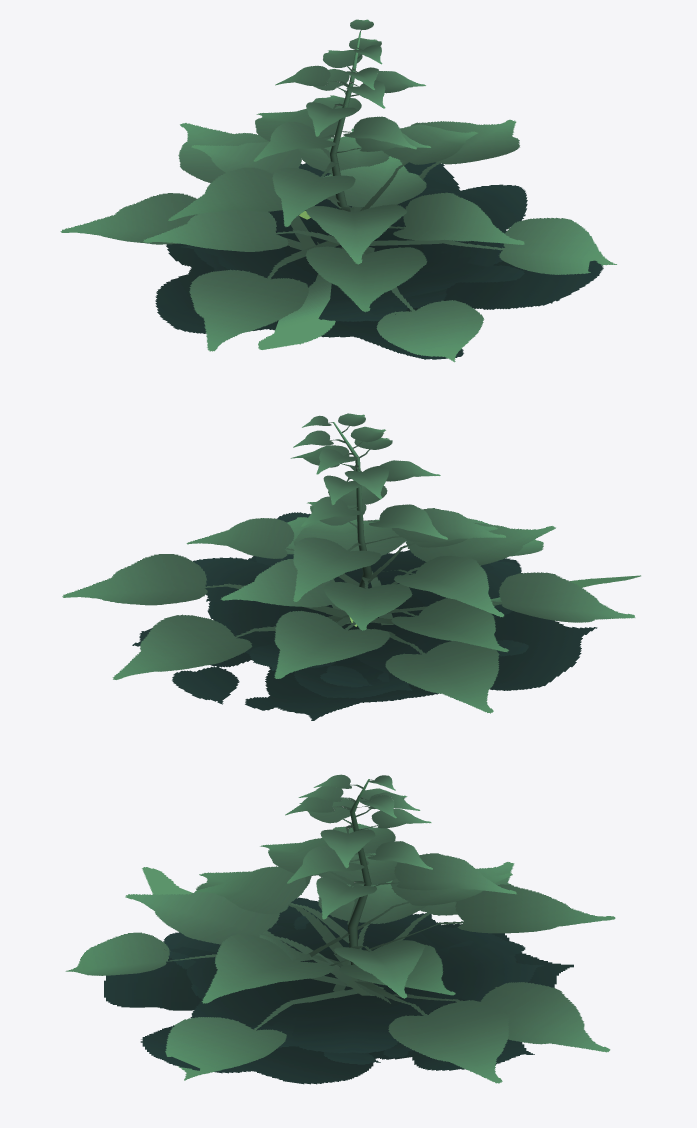
The model's file is plant_02.glb.
3 renders of one model, top to bottom at view 1: azimuth 30°, elevation 25°; view 2: azimuth 150°, elevation 25°; view 3: azimuth 270°, elevation 25°, orthographic. The views are drawn at different scales.
Visible parts, largest first — view 1: plant_02; view 2: plant_02; view 3: plant_02.
Boxes of the visible parts, left/top/right/bottom form: plant_02: left=60, top=19, right=616, bottom=362; plant_02: left=62, top=413, right=640, bottom=720; plant_02: left=65, top=774, right=615, bottom=1084.
Size of the model in its own units: 1.13 by 0.4456 by 1.09.
Materials: 1 (1 with a texture image).
